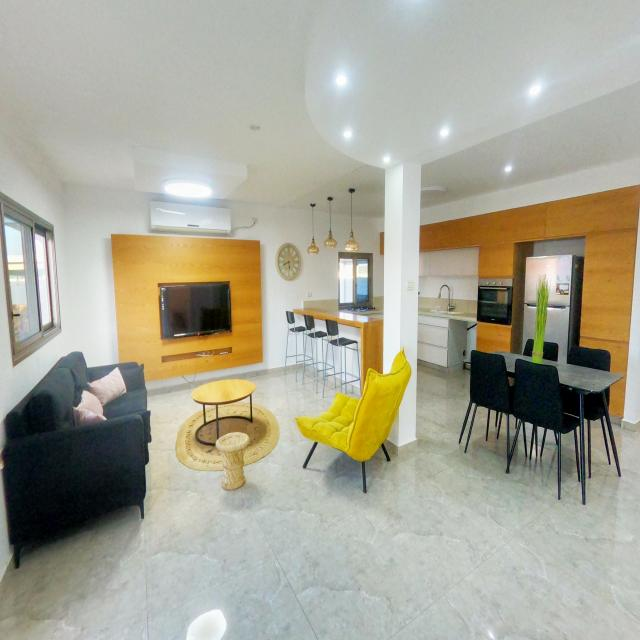floor: (0, 363, 640, 640)
wall: (62, 183, 385, 370), (419, 185, 640, 418), (111, 201, 263, 382), (0, 136, 72, 452), (420, 158, 640, 226), (398, 162, 421, 446), (158, 281, 232, 363), (383, 162, 403, 374), (623, 202, 640, 424), (145, 362, 263, 390), (510, 243, 534, 355), (418, 276, 478, 314), (419, 246, 479, 276), (476, 322, 512, 353), (448, 319, 468, 367), (467, 325, 477, 362), (468, 322, 477, 328)
